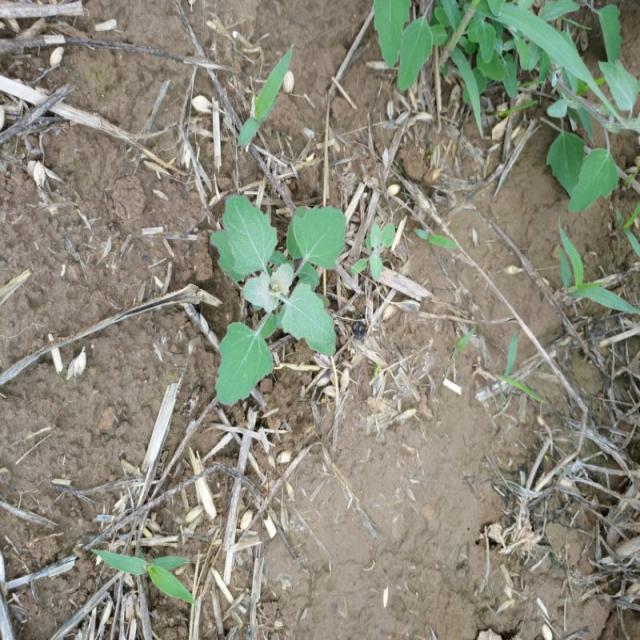goosefoots: (189, 190, 361, 407)
